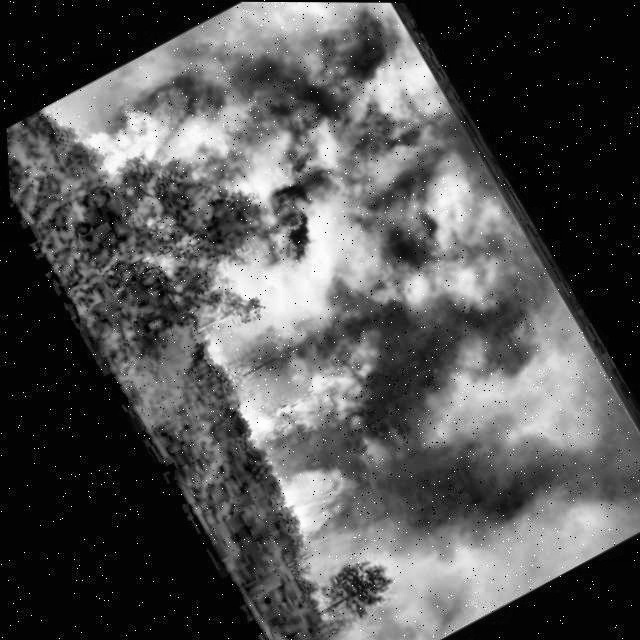Fire: (210, 338, 414, 548), (68, 68, 222, 189)
Smoke: (125, 1, 640, 630)
